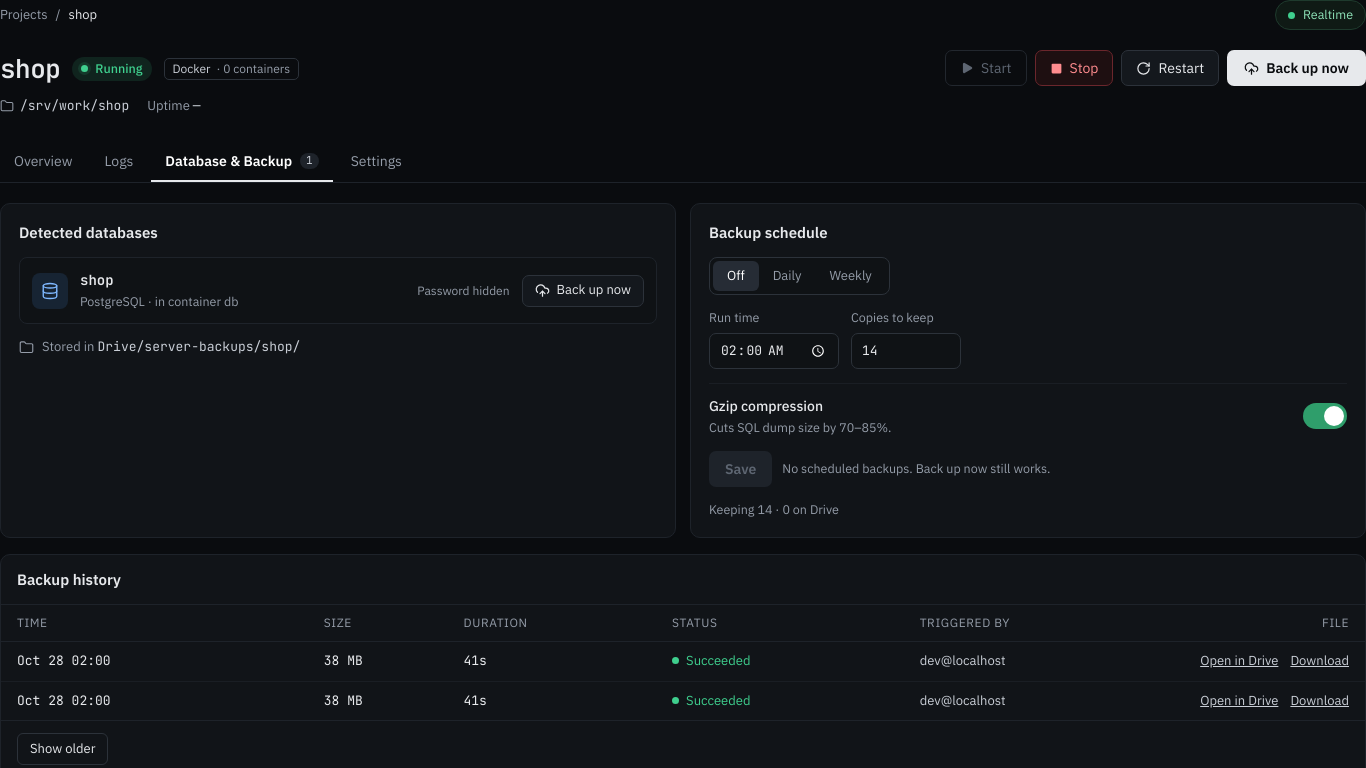
Test: backup history › shows older backups on Show older
Click the button "Show older" at (63, 749), box [17,733,108,765]
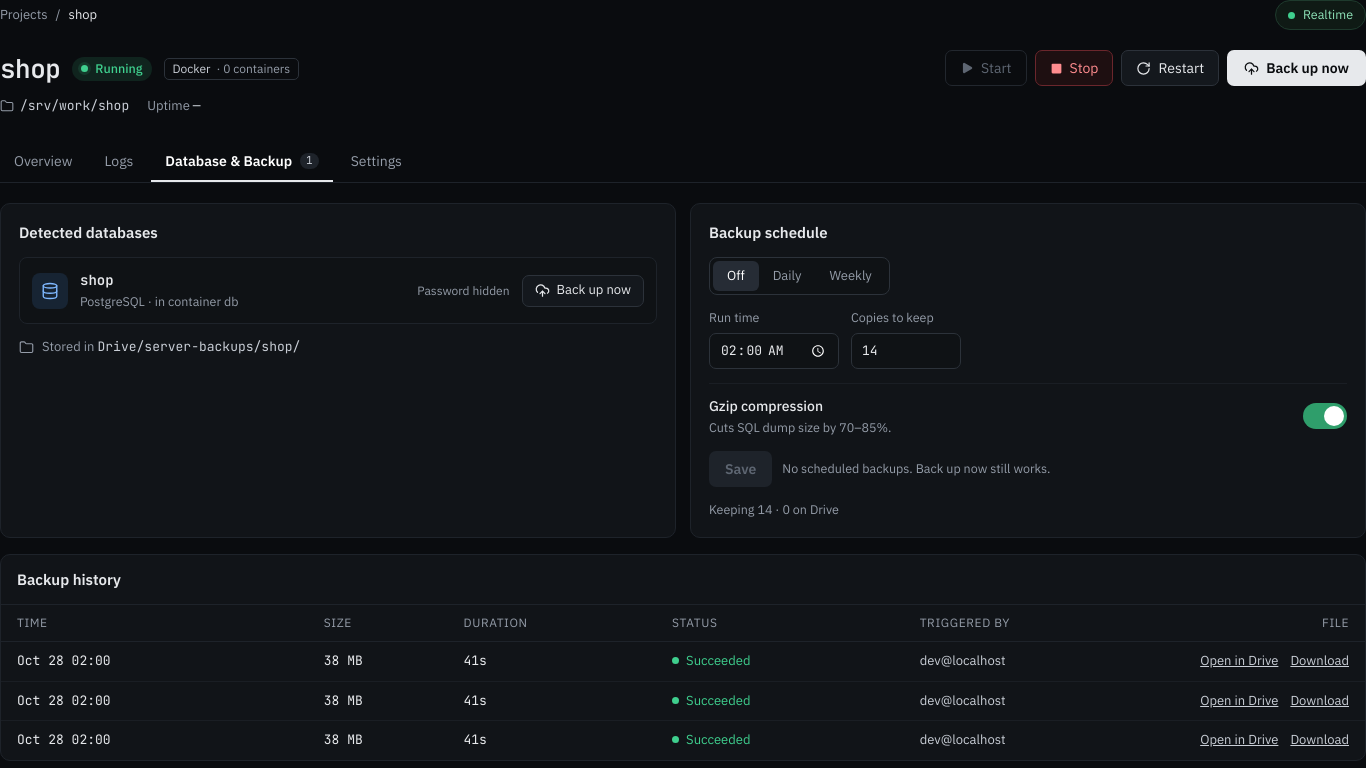
Expected: the button "Show older" is gone
